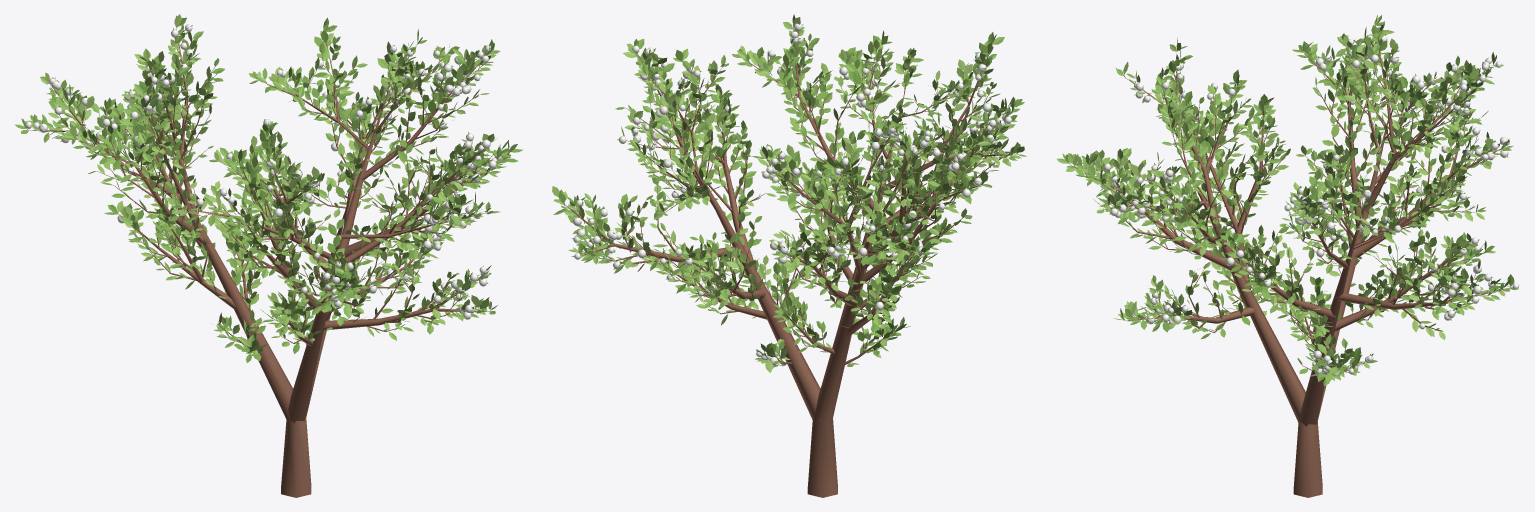
The model's file is prunier_printemps.glb.
The picture shows the model from 3 angles, left to right: view 1: azimuth 30°, elevation 25°; view 2: azimuth 150°, elevation 25°; view 3: azimuth 270°, elevation 25°; orthographic projection. The views are drawn at different scales.
Visible parts, largest first — view 1: Prunier_Feuillage, Prunier_Tronc, Prunier_Fleurs; view 2: Prunier_Feuillage, Prunier_Tronc, Prunier_Fleurs; view 3: Prunier_Feuillage, Prunier_Tronc, Prunier_Fleurs.
Boxes of the visible parts, x1=… form: Prunier_Feuillage: x1=15, y1=14, x2=522, y2=362; Prunier_Tronc: x1=27, y1=28, x2=508, y2=497; Prunier_Fleurs: x1=25, y1=24, x2=502, y2=330; Prunier_Feuillage: x1=552, y1=14, x2=1026, y2=372; Prunier_Tronc: x1=559, y1=29, x2=1017, y2=497; Prunier_Fleurs: x1=572, y1=23, x2=1013, y2=365; Prunier_Feuillage: x1=1057, y1=15, x2=1519, y2=385; Prunier_Tronc: x1=1069, y1=25, x2=1510, y2=497; Prunier_Fleurs: x1=1076, y1=35, x2=1518, y2=377.
Size of the model in its own units: 3.69 by 3.87 by 3.85.
